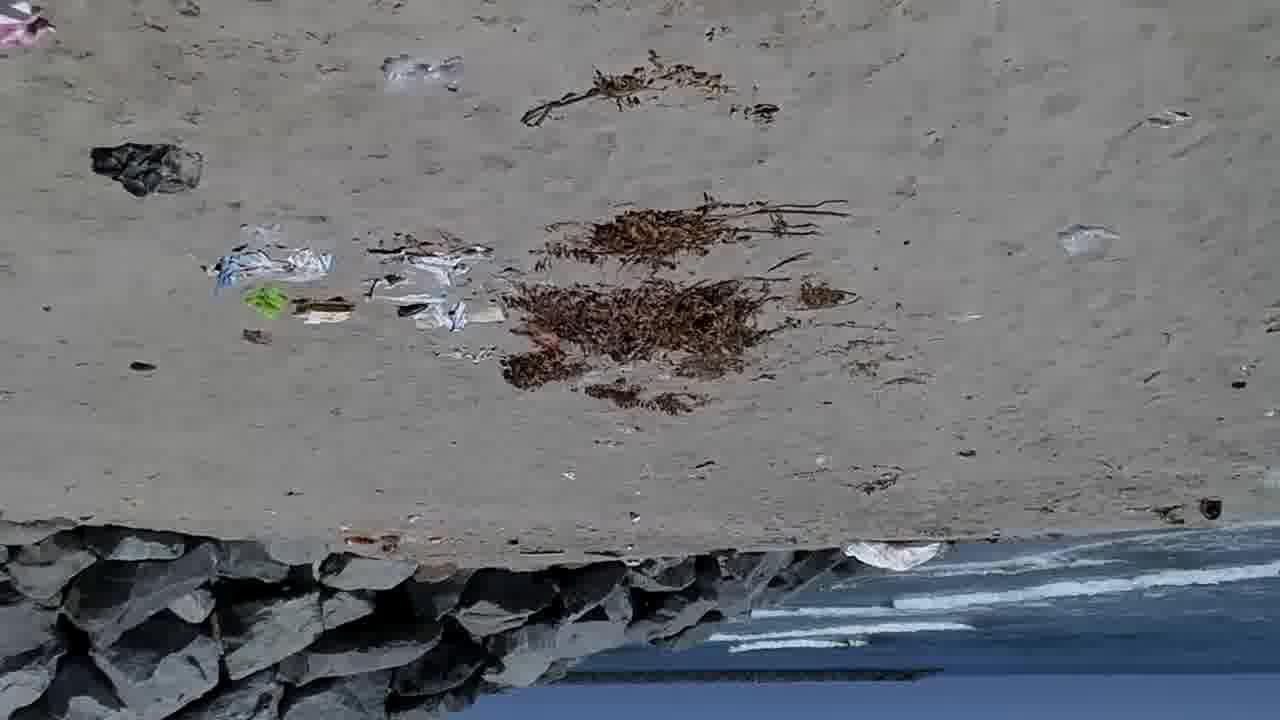obj: (500, 184, 869, 428), (512, 56, 795, 134), (200, 226, 334, 318), (369, 241, 487, 336), (92, 144, 208, 202), (380, 51, 466, 98), (846, 541, 954, 571), (1055, 224, 1124, 264), (0, 2, 52, 49), (434, 342, 498, 368), (293, 298, 352, 326), (467, 295, 511, 323)
sand/background: (0, 512, 1280, 719)
